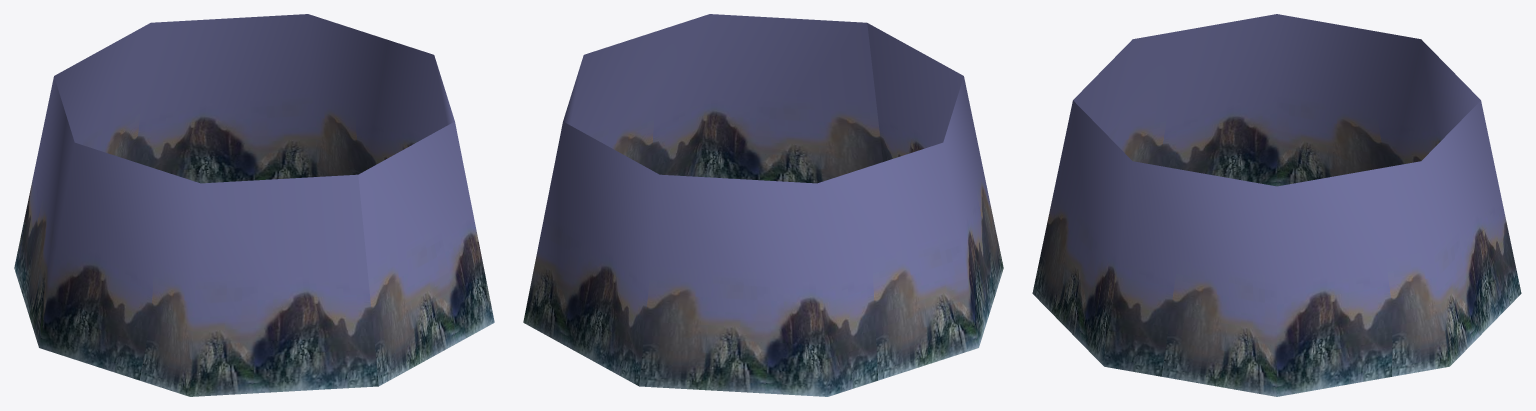
Rendered from mou.obj.
3 renders of one model, left to right at view 1: azimuth 30°, elevation 25°; view 2: azimuth 150°, elevation 25°; view 3: azimuth 270°, elevation 25°, orthographic.
Visible parts, largest first — view 1: mou; view 2: mou; view 3: mou.
Boxes of the visible parts, x1,y1,x2,y2 form: mou: [14, 14, 494, 396]; mou: [523, 14, 1003, 396]; mou: [1032, 14, 1521, 396].
Size of the model in its own units: 6448 by 2814 by 6448.
